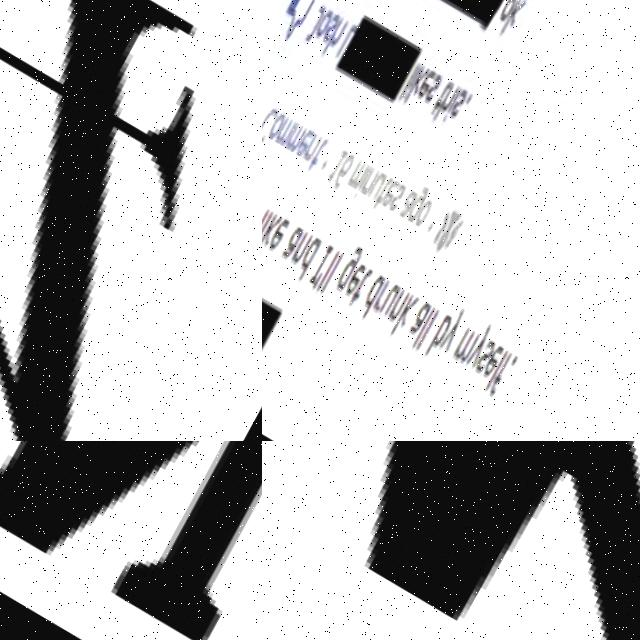2: (327, 149, 357, 192)
M: (262, 441, 640, 640)
N: (0, 441, 262, 640)
